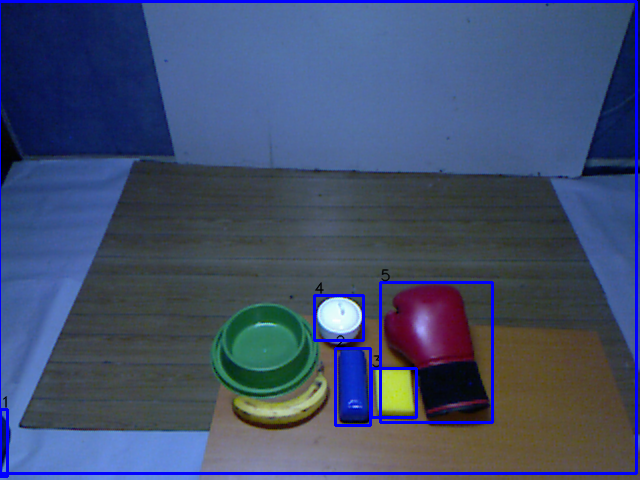azucarero: (314, 293, 364, 350)
borrador: (332, 345, 371, 433)
esponja: (371, 362, 422, 423)
guante: (379, 281, 498, 422)
platano: (227, 365, 332, 431)
platoperro: (208, 299, 319, 400)
